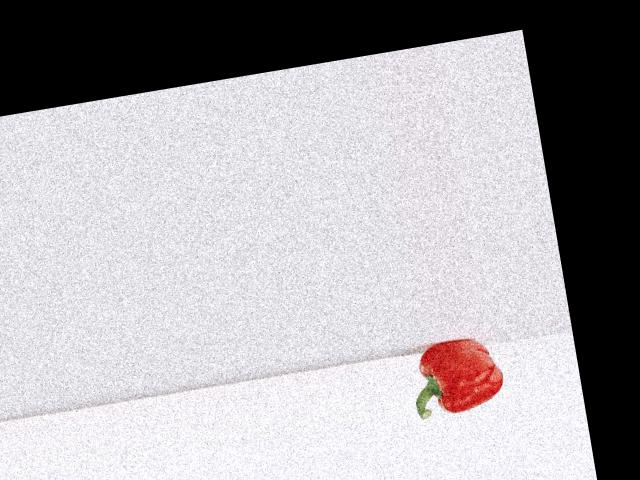bell_pepper: (397, 329, 512, 424)
